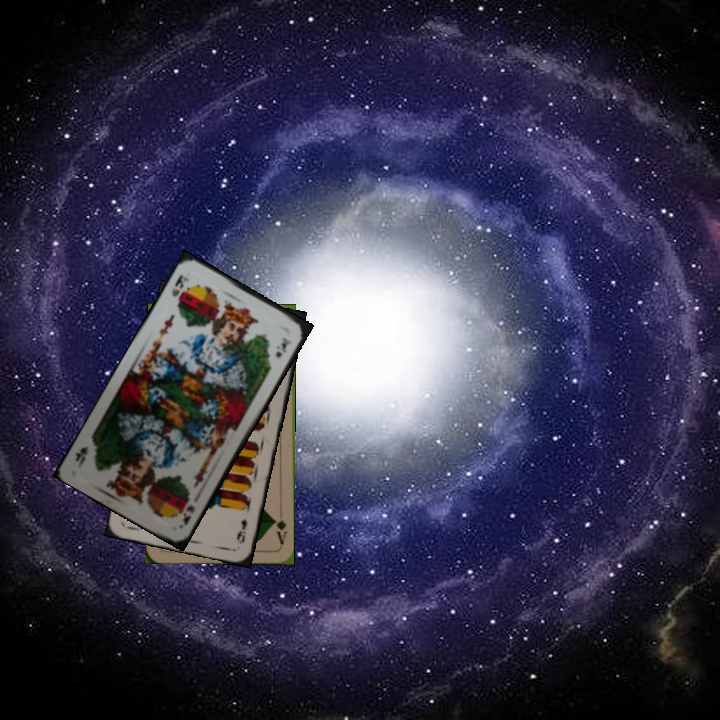E9: (232, 515, 250, 546)
GA: (270, 507, 290, 547)
SK: (166, 271, 192, 299), (179, 501, 197, 528)
